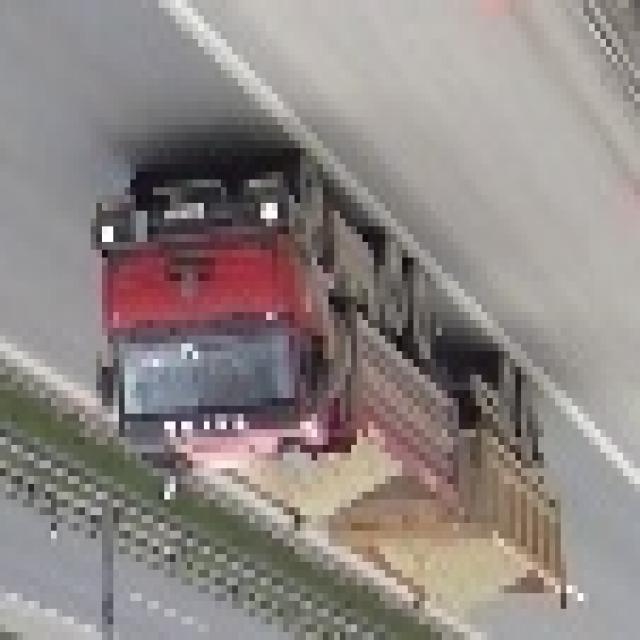truck: (90, 163, 566, 624)
